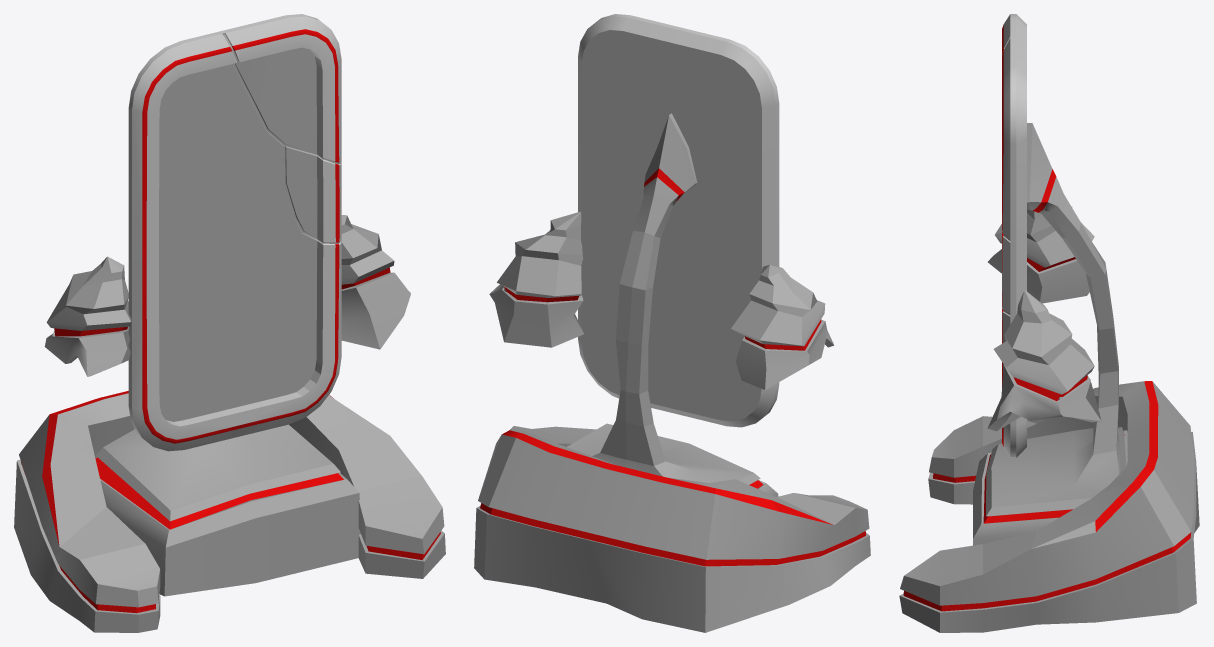
Rendered from Rotatable_Mirror.fbx.
3 views of the same model, side by side, from view 1: azimuth 30°, elevation 25°; view 2: azimuth 150°, elevation 25°; view 3: azimuth 270°, elevation 25° (orthographic). The views are drawn at different scales.
Visible parts, largest first — view 1: TZ2:polySurface1, base_shape1, baseshape2, polySurface2, polySurface1; view 2: TZ2:polySurface1, base_shape1, baseshape2, polySurface1, polySurface2; view 3: base_shape1, baseshape2, polySurface1, TZ2:polySurface1, polySurface2.
Part boxes in pixels (bbox=[...]): TZ2:polySurface1: bbox=[128, 14, 341, 451]; base_shape1: bbox=[14, 391, 445, 632]; baseshape2: bbox=[95, 424, 360, 596]; polySurface2: bbox=[44, 256, 131, 376]; polySurface1: bbox=[341, 215, 410, 349]; TZ2:polySurface1: bbox=[578, 14, 779, 427]; base_shape1: bbox=[474, 426, 870, 632]; baseshape2: bbox=[567, 113, 778, 496]; polySurface1: bbox=[489, 211, 583, 347]; polySurface2: bbox=[731, 264, 834, 389]; base_shape1: bbox=[899, 381, 1199, 632]; baseshape2: bbox=[973, 123, 1127, 545]; polySurface1: bbox=[987, 290, 1101, 431]; TZ2:polySurface1: bbox=[1002, 14, 1026, 457]; polySurface2: bbox=[988, 206, 1094, 303].
Size of the model in its own units: 11.25 by 16.61 by 8.86.
